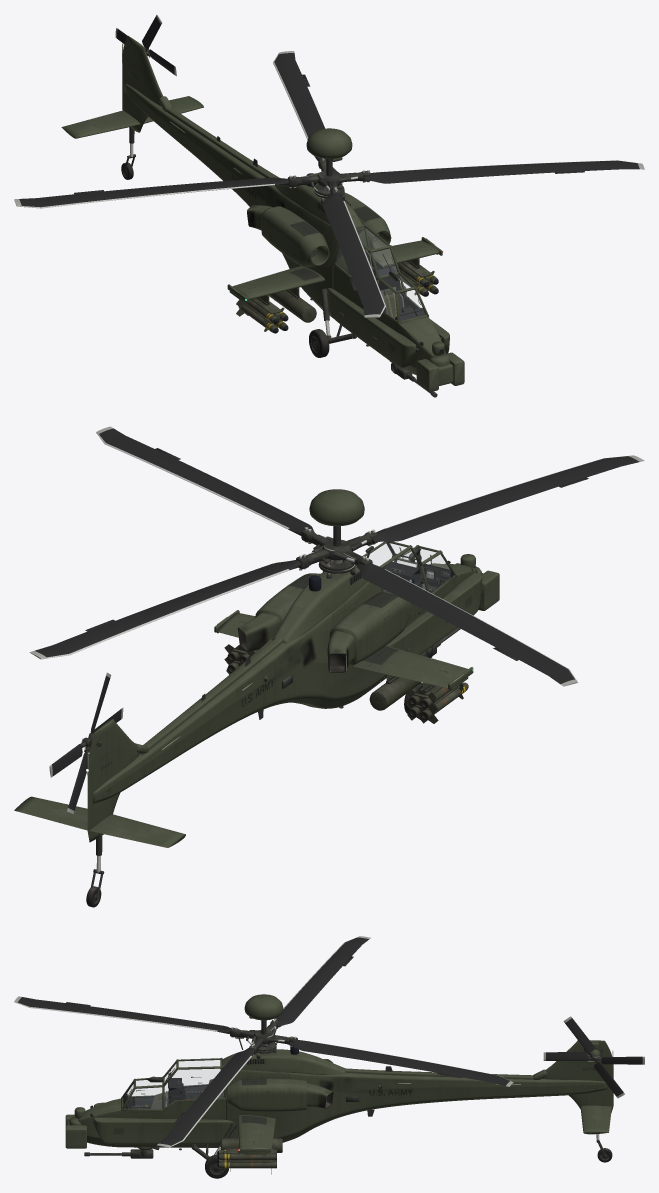
File: apache_ah64d_web.glb
3 views of the same model, one above another, from view 1: azimuth 30°, elevation 25°; view 2: azimuth 150°, elevation 25°; view 3: azimuth 270°, elevation 25° (orthographic). The views are drawn at different scales.
Visible parts, largest first — view 1: Main_Rotor_Blades, Fuselage_Aft, Avionics_Bay_Right, Nacelle_Right_Skin, Fin, Stabilator, Wing_Right_Skin, TADS_Sensor_Shrouds, FCR_Radome_Mesh, Main_Rotor_Hub, Fuselage_Nose, Canopy_Frame (+9 smaller); view 2: Main_Rotor_Blades, Fuselage_Aft, Nacelle_Right_Skin, Fin, Stabilator, Rotor_Pylon, Avionics_Bay_Right, Wing_Right_Skin, Main_Rotor_Hub, FCR_Radome_Mesh, Drive_Shaft_Cover, Tail_Rotor_Blades (+6 smaller); view 3: Fuselage_Aft, Main_Rotor_Blades, Avionics_Bay_Left, Nacelle_Left_Skin, Fin, Rotor_Pylon, Tail_Rotor_Blades, Fuselage_Cockpit, Wing_Left_Skin, Canopy_Frame, Main_Rotor_Hub, Fuselage_Nose (+10 smaller).
Boxes of the visible parts, x1=… form: Main_Rotor_Blades: x1=14, y1=51, x2=644, y2=317; Fuselage_Aft: x1=124, y1=83, x2=368, y2=317; Avionics_Bay_Right: x1=327, y1=287, x2=416, y2=368; Nacelle_Right_Skin: x1=261, y1=206, x2=328, y2=266; Fin: x1=122, y1=35, x2=163, y2=132; Stabilator: x1=61, y1=96, x2=203, y2=138; Wing_Right_Skin: x1=232, y1=266, x2=324, y2=299; TADS_Sensor_Shrouds: x1=416, y1=352, x2=464, y2=392; FCR_Radome_Mesh: x1=306, y1=128, x2=352, y2=175; Main_Rotor_Hub: x1=288, y1=158, x2=370, y2=195; Fuselage_Nose: x1=398, y1=317, x2=446, y2=375; Canopy_Frame: x1=332, y1=224, x2=428, y2=324; Main_Rotor_Blades: x1=29, y1=426, x2=644, y2=686; Fuselage_Aft: x1=93, y1=581, x2=386, y2=803; Nacelle_Right_Skin: x1=329, y1=591, x2=410, y2=664; Fin: x1=87, y1=718, x2=140, y2=842; Stabilator: x1=14, y1=796, x2=185, y2=847; Rotor_Pylon: x1=272, y1=565, x2=367, y2=643; Avionics_Bay_Right: x1=386, y1=572, x2=482, y2=654; Wing_Right_Skin: x1=353, y1=645, x2=467, y2=687; Main_Rotor_Hub: x1=296, y1=527, x2=378, y2=574; FCR_Radome_Mesh: x1=309, y1=489, x2=364, y2=546; Drive_Shaft_Cover: x1=135, y1=637, x2=282, y2=754; Tail_Rotor_Blades: x1=49, y1=672, x2=123, y2=814; Fuselage_Aft: x1=222, y1=1067, x2=607, y2=1142; Main_Rotor_Blades: x1=14, y1=936, x2=513, y2=1147; Avionics_Bay_Left: x1=94, y1=1117, x2=233, y2=1144; Nacelle_Left_Skin: x1=228, y1=1078, x2=306, y2=1111; Fin: x1=541, y1=1040, x2=613, y2=1112; Rotor_Pylon: x1=222, y1=1049, x2=345, y2=1074; Tail_Rotor_Blades: x1=543, y1=1016, x2=644, y2=1098; Fuselage_Cockpit: x1=122, y1=1099, x2=225, y2=1147; Wing_Left_Skin: x1=237, y1=1115, x2=275, y2=1150; Canopy_Frame: x1=121, y1=1057, x2=226, y2=1111; Main_Rotor_Hub: x1=230, y1=1018, x2=297, y2=1055; Fuselage_Nose: x1=78, y1=1098, x2=122, y2=1147.
Size of what is drawn, in the model's own units: 13.65 by 4.95 by 17.23.
43 materials, 18 textured.
